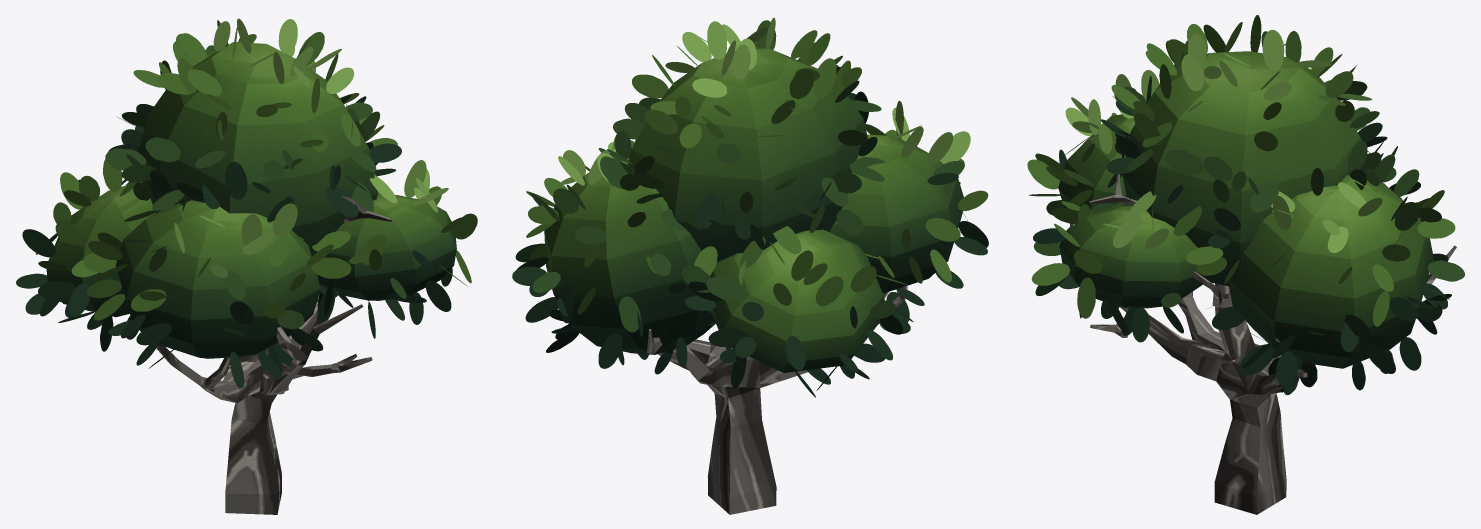
File: acaciaTree_01.fbx
3 renders of one model, left to right at view 1: azimuth 30°, elevation 25°; view 2: azimuth 150°, elevation 25°; view 3: azimuth 270°, elevation 25°, orthographic.
Parts seen in each view (by area): view 1: Tree01; view 2: Tree01; view 3: Tree01.
Boxes of the visible parts, x1,y1,x2,y2 form: Tree01: [16, 18, 477, 514]; Tree01: [512, 17, 988, 514]; Tree01: [1027, 15, 1464, 514].
Size of the model in its own units: 1311 by 1620 by 1387.
